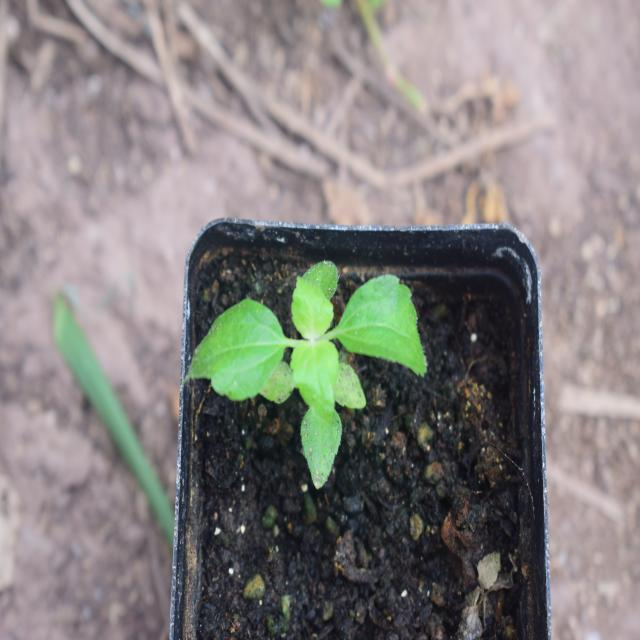billygoat_weed: (201, 256, 431, 481)
